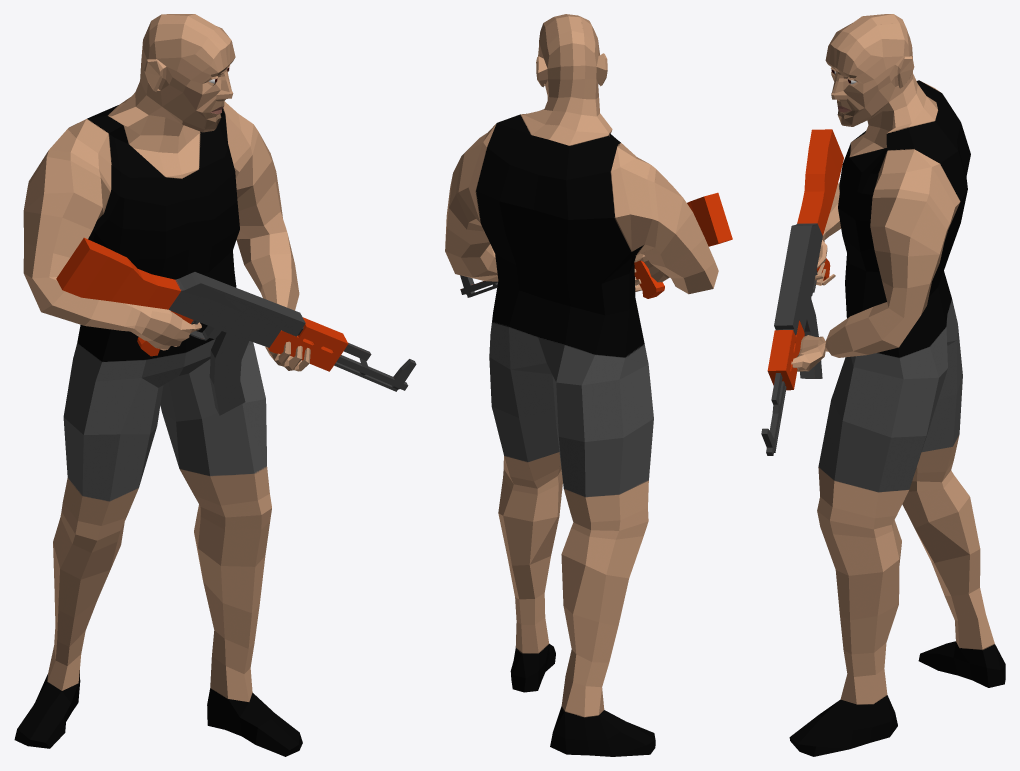
The model's file is PlayerIdle(117).obj.
3 renders of one model, left to right at view 1: azimuth 30°, elevation 25°; view 2: azimuth 150°, elevation 25°; view 3: azimuth 270°, elevation 25°, orthographic. The views are drawn at different scales.
Parts seen in each view (by area): view 1: Plane002, Object001; view 2: Plane002, Object001; view 3: Plane002, Object001.
Boxes of the visible parts, box(x1,y1,x2,y2) form: Plane002: box(14, 14, 310, 756); Object001: box(56, 237, 416, 415); Plane002: box(445, 14, 718, 756); Object001: box(460, 192, 732, 298); Plane002: box(789, 14, 1005, 756); Object001: box(761, 129, 843, 455).
Bounding box in the file's own units: 854 × 1802 × 571.
